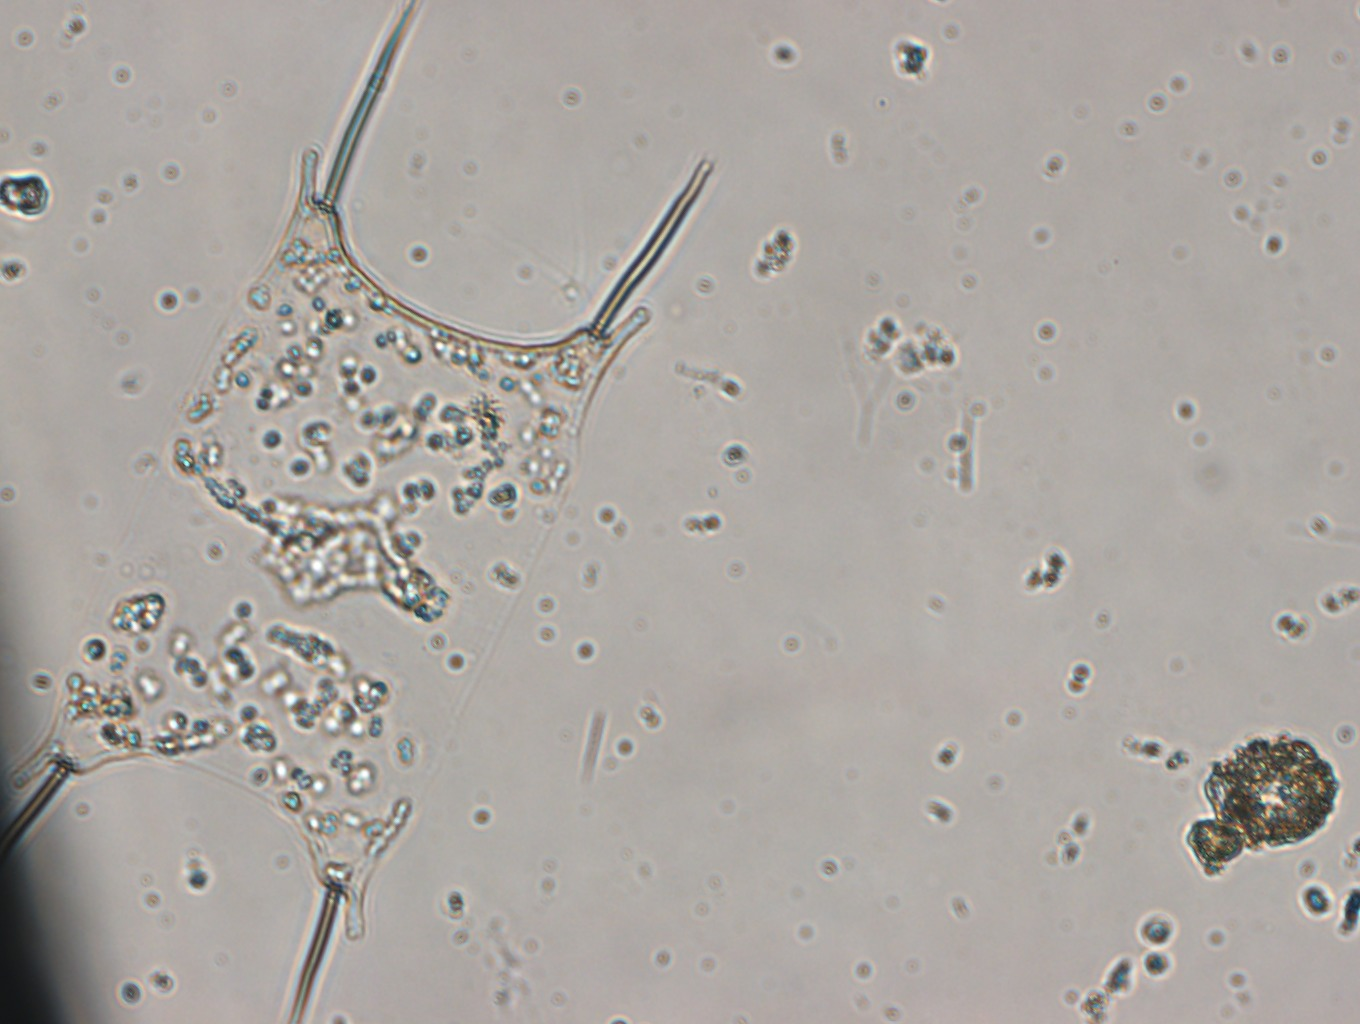biddulphia: (1, 1, 715, 1024)
